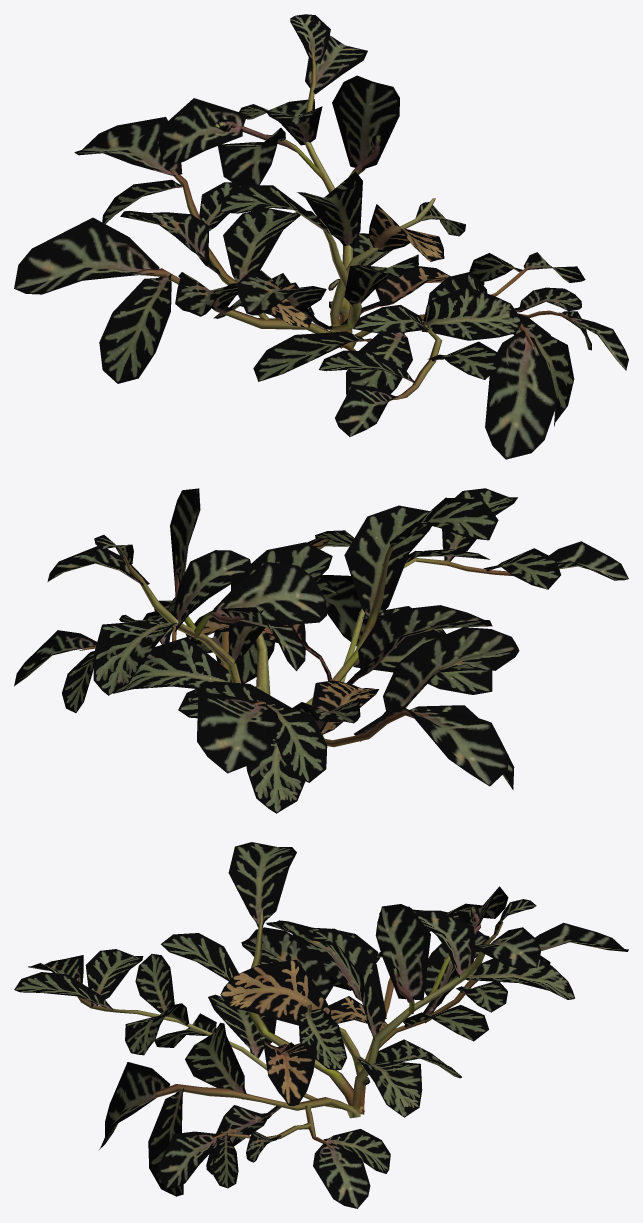
File: flower_ursinia_4.gltf
3 renders of one model, top to bottom at view 1: azimuth 30°, elevation 25°; view 2: azimuth 150°, elevation 25°; view 3: azimuth 270°, elevation 25°, orthographic. The views are drawn at different scales.
Parts seen in each view (by area): view 1: flower_ursinia_e_LOD0; view 2: flower_ursinia_e_LOD0; view 3: flower_ursinia_e_LOD0.
Boxes of the visible parts, x1,y1,x2,y2 form: flower_ursinia_e_LOD0: (14,14,628,459); flower_ursinia_e_LOD0: (14,488,628,813); flower_ursinia_e_LOD0: (14,842,628,1208).
Size of the model in its own units: 0.1379 by 0.0743 by 0.1573.
1 material, 1 textured.
